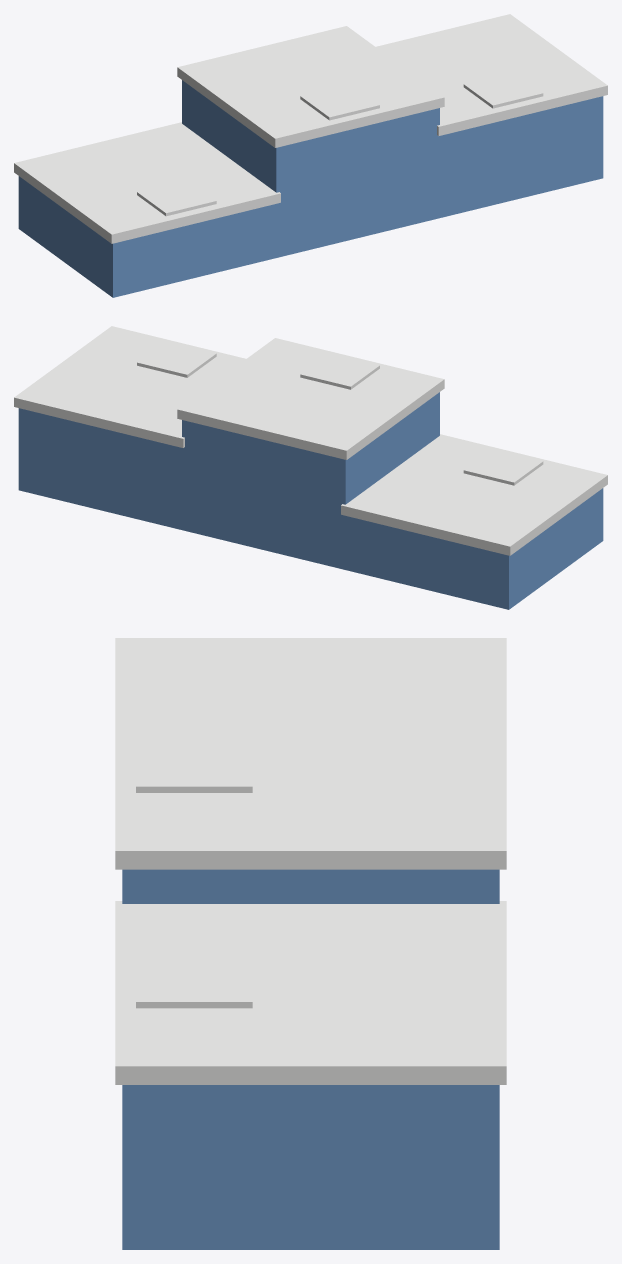
The model's file is martial-arts-dojo-and-fight-stages-podium-a67022d7__18096.glb.
3 views of the same model, one above another, from view 1: azimuth 30°, elevation 25°; view 2: azimuth 150°, elevation 25°; view 3: azimuth 270°, elevation 25° (orthographic). The views are drawn at different scales.
Parts seen in each view (by area): view 1: podium; view 2: podium; view 3: podium.
Part boxes in pixels (x1,y1,x2,y2): podium: (14, 14, 607, 297); podium: (14, 326, 607, 609); podium: (115, 638, 506, 1249).
Bounding box in the file's own units: 3.34 × 0.7999 × 1.14.
